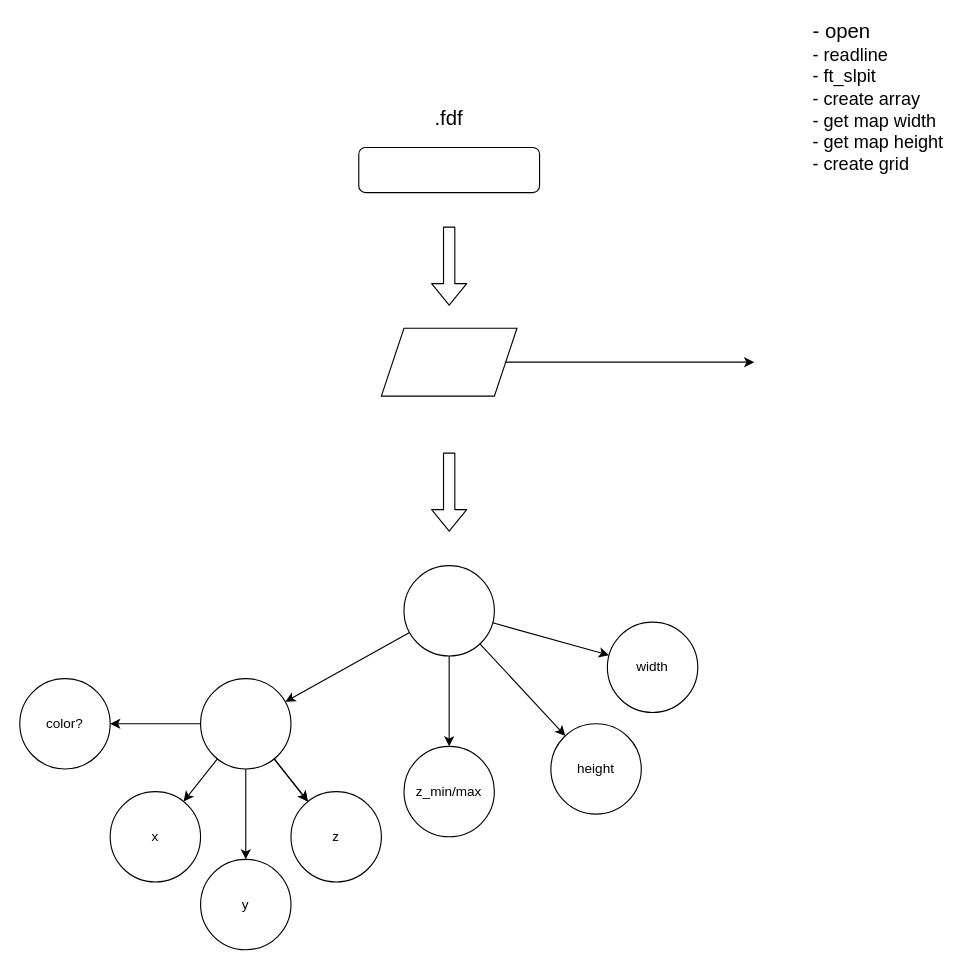
The diagram is 966 pixels wide and 970 high, and some of its shapes have lost their labels. The shapes that lost their labels are listed below. From the top down, each one's box as (x1, y1, x2, y2) in pixels, then its label:
(358, 146, 540, 193): input
(380, 327, 517, 396): read_file()
(403, 564, 494, 656): map struct
(199, 677, 291, 769): points
